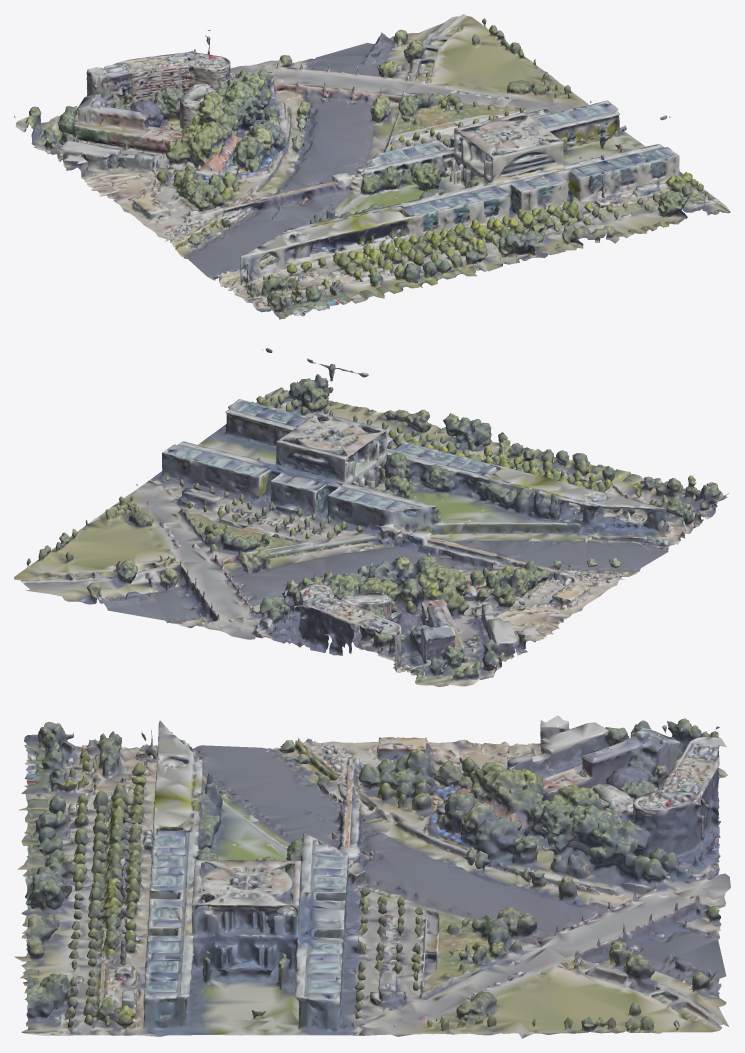
The model's file is surface-detail-3890_58200.glb.
3 views of the same model, one above another, from view 1: azimuth 30°, elevation 25°; view 2: azimuth 150°, elevation 25°; view 3: azimuth 270°, elevation 25° (orthographic). The views are drawn at different scales.
Visible parts, largest first — view 1: world; view 2: world; view 3: world.
Boxes of the visible parts, <box> form: world: <box>14,14,730,319</box>; world: <box>14,348,728,686</box>; world: <box>15,715,730,1038</box>.
Bounding box in the file's own units: 370 × 62.65 × 374.
